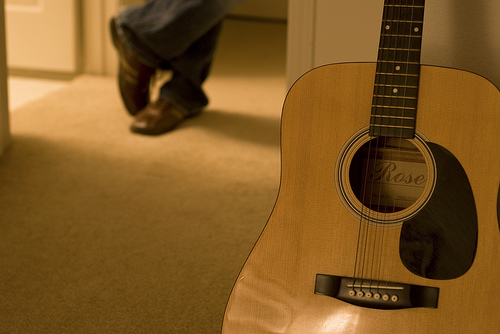guitar: (220, 1, 500, 334)
